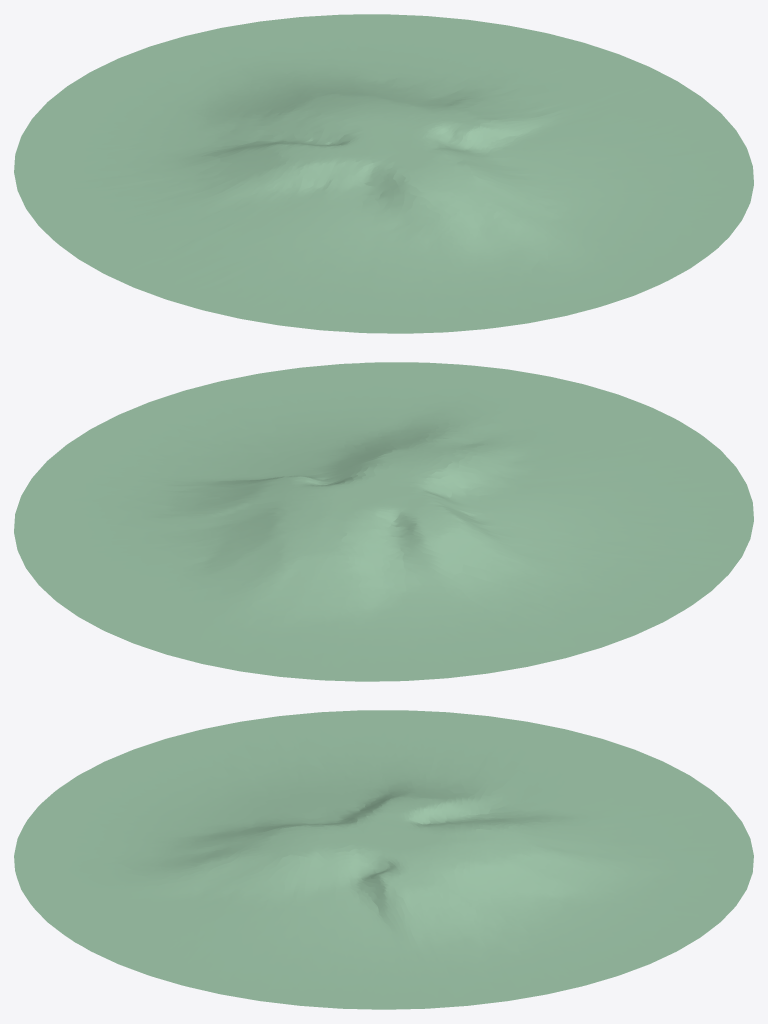
File: island_coral_medium_I.fbx
The picture shows the model from 3 angles, top to bottom: view 1: azimuth 30°, elevation 25°; view 2: azimuth 150°, elevation 25°; view 3: azimuth 270°, elevation 25°; orthographic projection. The views are drawn at different scales.
Parts seen in each view (by area): view 1: island_coral_medium_I; view 2: island_coral_medium_I; view 3: island_coral_medium_I.
Boxes of the visible parts, x1,y1,x2,y2 form: island_coral_medium_I: (14, 14, 753, 333); island_coral_medium_I: (14, 362, 753, 681); island_coral_medium_I: (14, 710, 753, 1009).
Bounding box in the file's own units: 10001 × 426 × 10443.
